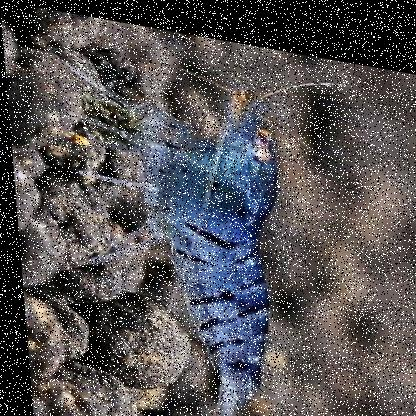shrimp: (114, 57, 297, 415)
